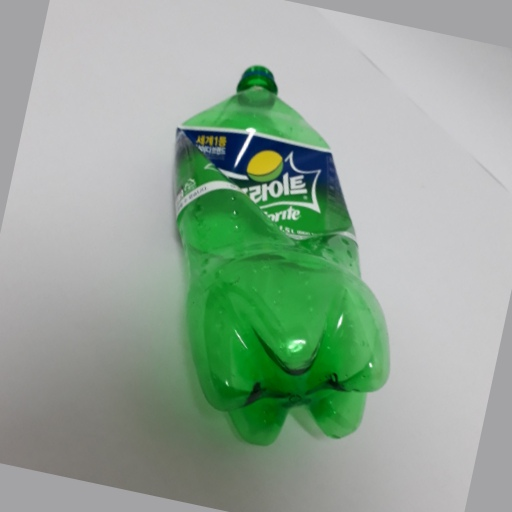Plastic_0: (169, 64, 395, 445)
